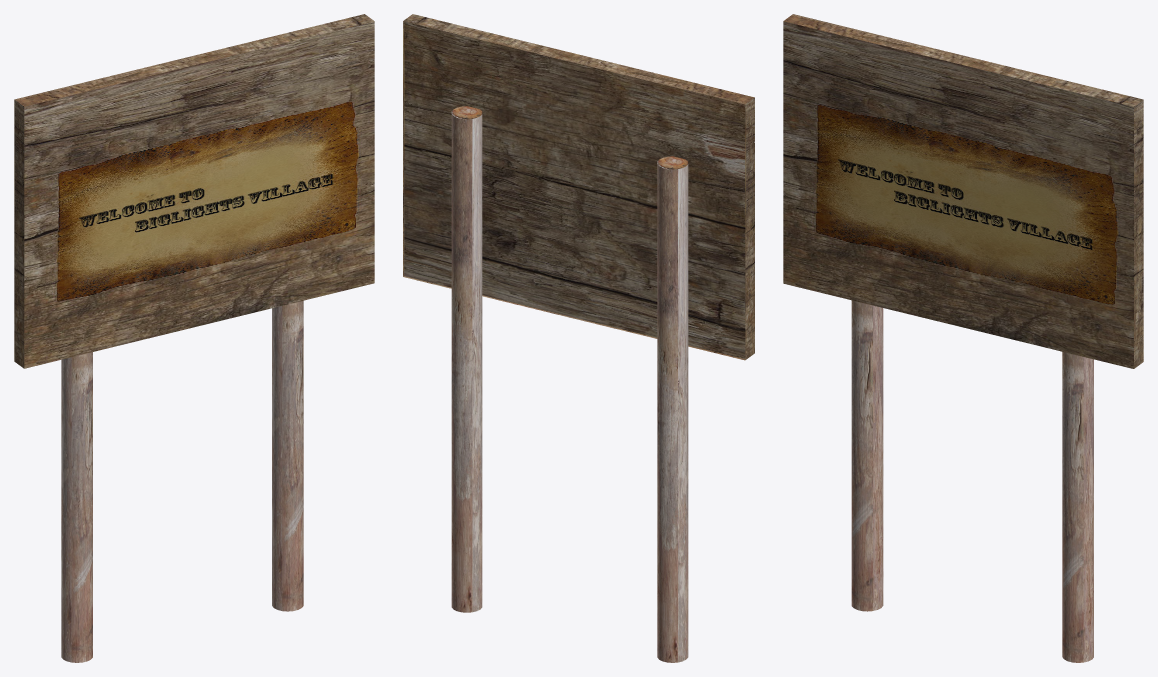
Rendered from sign3.FBX.
3 renders of one model, left to right at view 1: azimuth 30°, elevation 25°; view 2: azimuth 150°, elevation 25°; view 3: azimuth 330°, elevation 25°, orthographic. The views are drawn at different scales.
Visible parts, largest first — view 1: Box001, Cylinder004, Cylinder006; view 2: Box001, Cylinder004, Cylinder006; view 3: Box001, Cylinder006, Cylinder004.
Part boxes in pixels (left/top/right/bottom): Box001: left=14, top=14, right=374, bottom=368; Cylinder004: left=272, top=300, right=303, bottom=611; Cylinder006: left=61, top=352, right=92, bottom=662; Box001: left=403, top=14, right=754, bottom=360; Cylinder004: left=451, top=106, right=482, bottom=612; Cylinder006: left=657, top=156, right=688, bottom=662; Box001: left=783, top=14, right=1143, bottom=368; Cylinder006: left=851, top=300, right=883, bottom=611; Cylinder004: left=1062, top=352, right=1093, bottom=662.
Bounding box in the file's own units: 37.54 × 59.14 × 4.36.
Materials: 2 (2 with a texture image).
